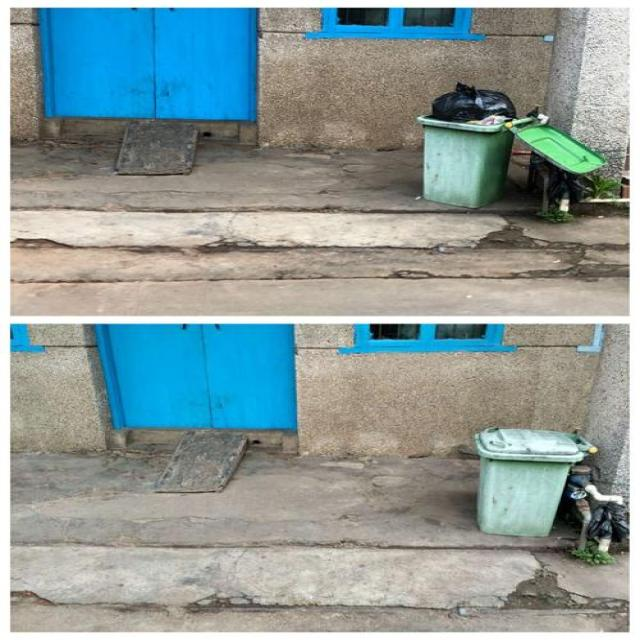garbage_bin: (473, 427, 592, 536)
overflow: (417, 81, 512, 210)
